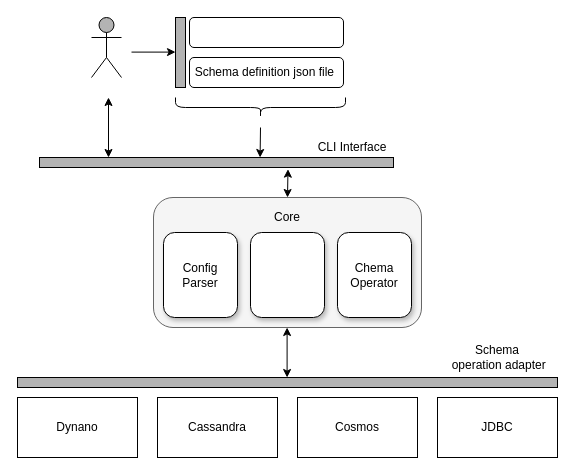
Some shapes in this 575 by 475 pixel diagram are drawn without their labels. Each missing label, with the centre of its shape:
Database configuration file: the point at 266,32
Schema Parser: the point at 288,276
User: the point at 106,47
